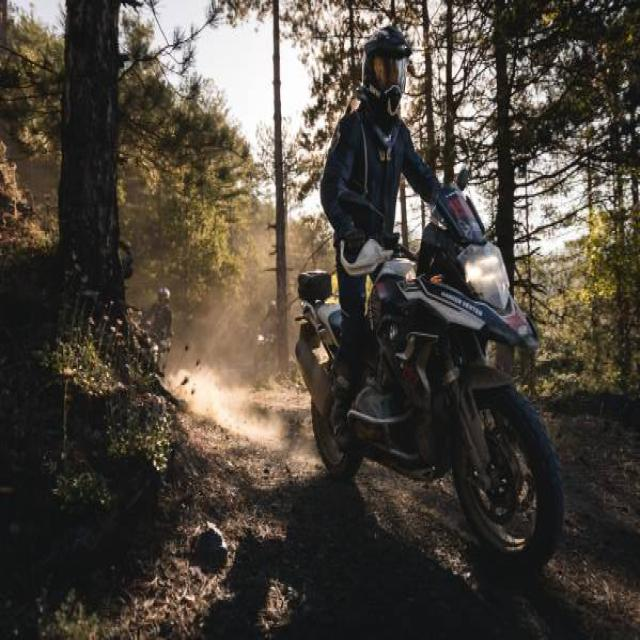motorcycle: (296, 26, 562, 570)
